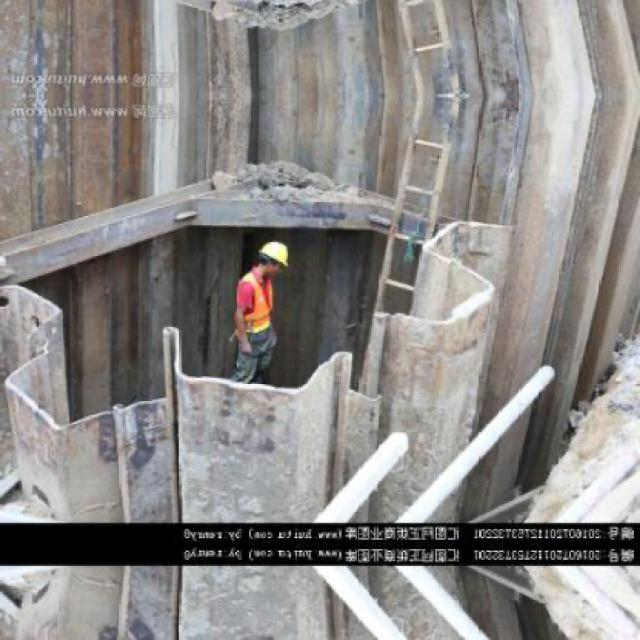helmet: (255, 238, 292, 280)
